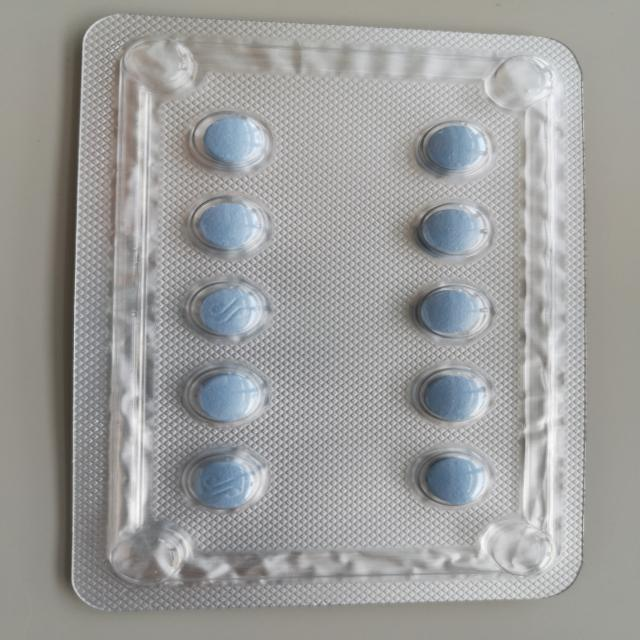Pill: (401, 105, 519, 182), (182, 191, 296, 270), (169, 97, 287, 172), (408, 196, 502, 272), (403, 360, 496, 436), (179, 358, 269, 434), (172, 446, 275, 512), (184, 280, 272, 344), (413, 286, 498, 348), (412, 450, 494, 508)
